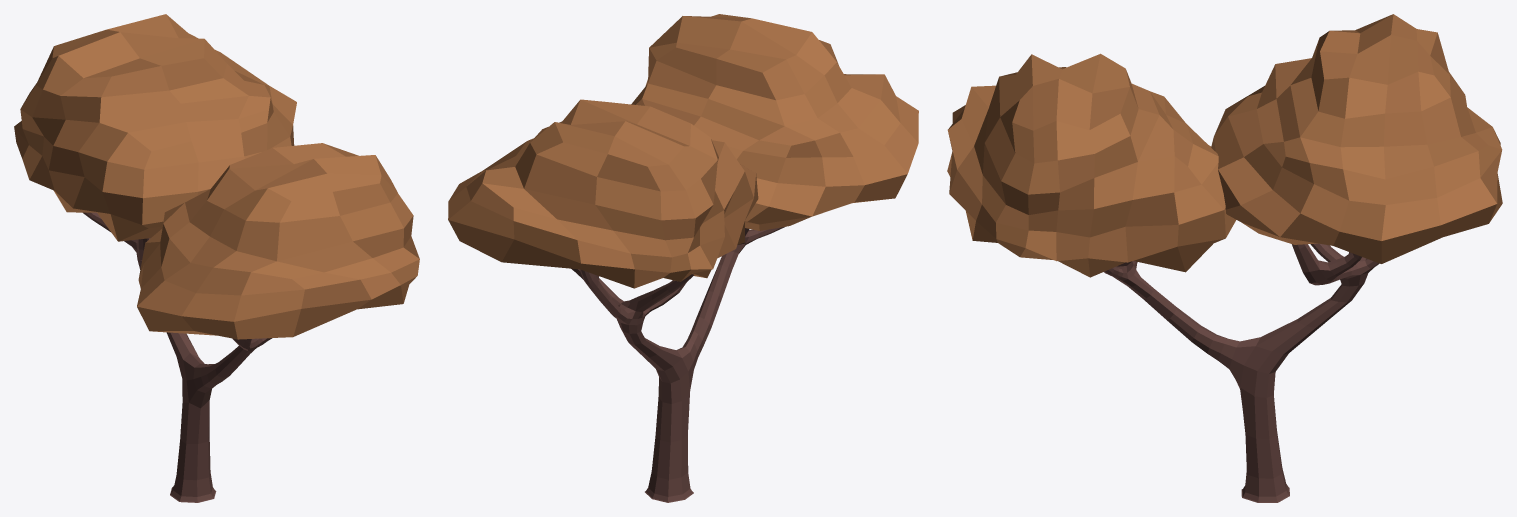
The model's file is CommonTree_Autumn_1.glb.
The picture shows the model from 3 angles, left to right: view 1: azimuth 30°, elevation 25°; view 2: azimuth 150°, elevation 25°; view 3: azimuth 270°, elevation 25°; orthographic projection. The views are drawn at different scales.
Visible parts, largest first — view 1: Orange, Wood; view 2: Orange, Wood; view 3: Orange, Wood.
Part boxes in pixels (bbox=[...]): Orange: bbox=[14, 14, 419, 339]; Wood: bbox=[83, 212, 272, 502]; Orange: bbox=[448, 14, 918, 288]; Wood: bbox=[571, 226, 785, 502]; Orange: bbox=[947, 14, 1502, 277]; Wood: bbox=[1104, 243, 1379, 502].
Bounding box in the file's own units: 1.89 × 2.48 × 2.77.
